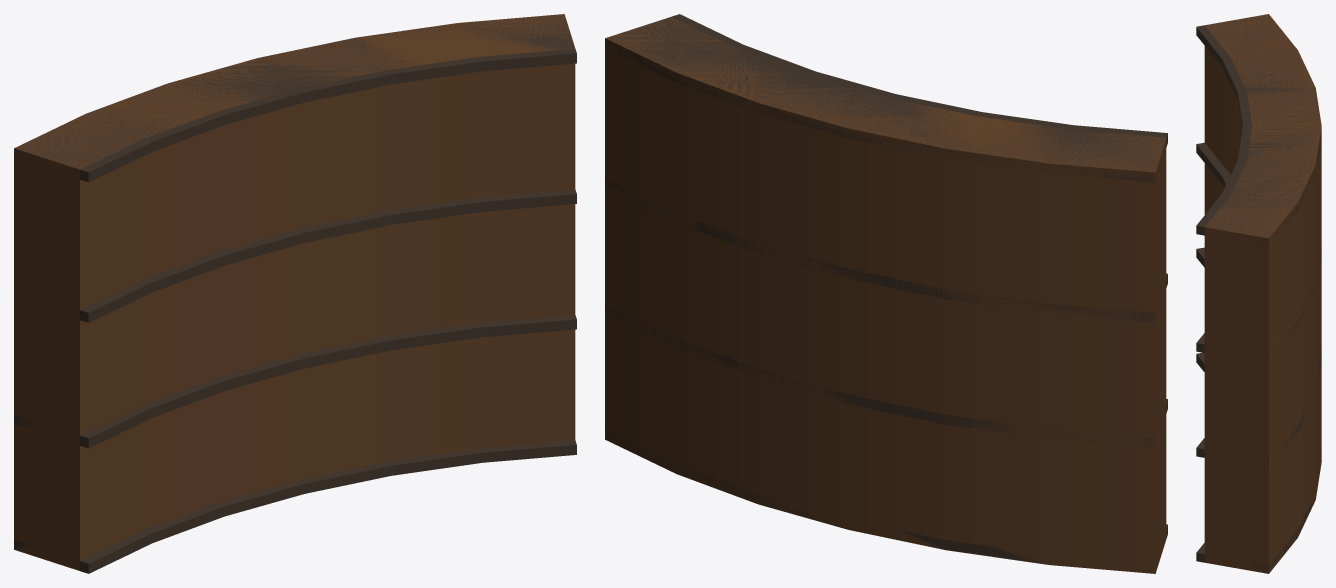
The model's file is curve_shelf.glb.
3 views of the same model, side by side, from view 1: azimuth 30°, elevation 25°; view 2: azimuth 150°, elevation 25°; view 3: azimuth 270°, elevation 25° (orthographic). The views are drawn at different scales.
Parts seen in each view (by area): view 1: sw5e_int_curve_shelf; view 2: sw5e_int_curve_shelf; view 3: sw5e_int_curve_shelf.
Boxes of the visible parts, x1=… form: sw5e_int_curve_shelf: x1=14, y1=14, x2=576, y2=573; sw5e_int_curve_shelf: x1=605, y1=14, x2=1167, y2=573; sw5e_int_curve_shelf: x1=1196, y1=14, x2=1321, y2=573.
Size of the model in its own units: 2.3 by 1.6 by 0.5425.
